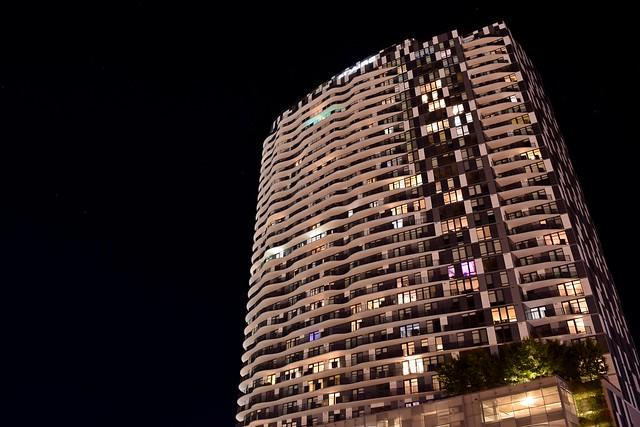building: (235, 24, 640, 427)
